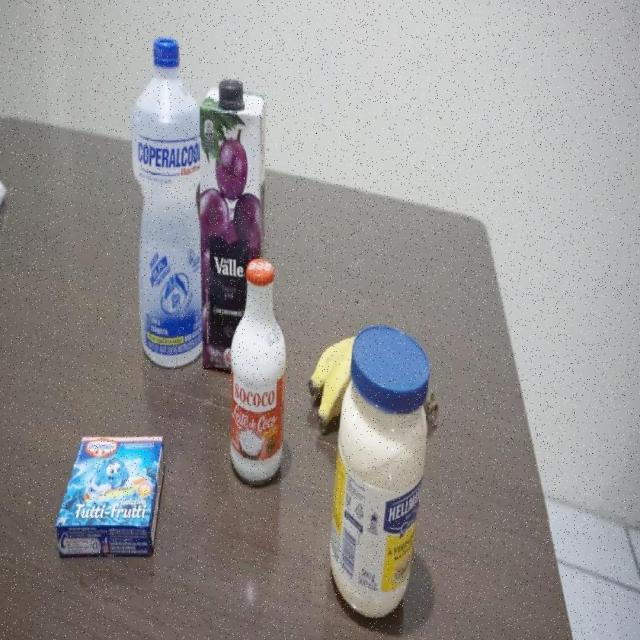Banana: (309, 332, 355, 434)
CoconutMilk: (226, 259, 288, 488)
Gelatine: (56, 435, 167, 561)
Mayonnaise: (327, 326, 432, 624), (130, 32, 201, 366)
